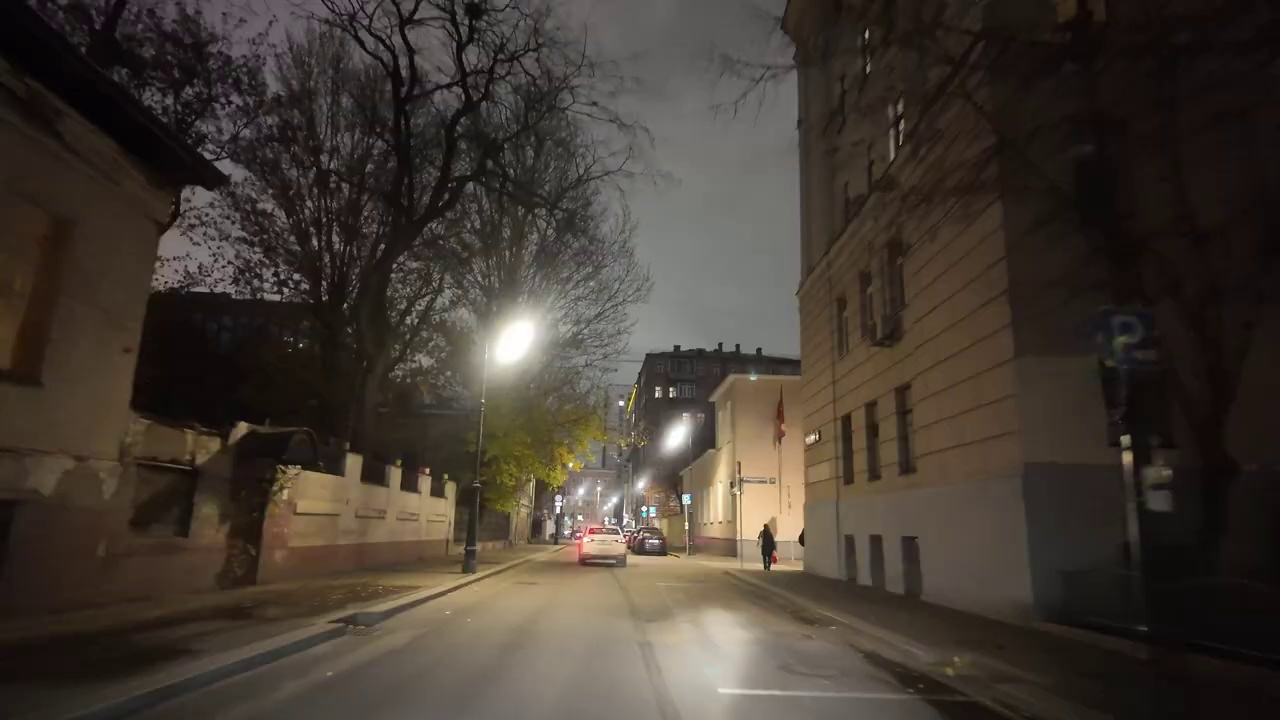acesa: (485, 310, 545, 371), (658, 414, 695, 454)
